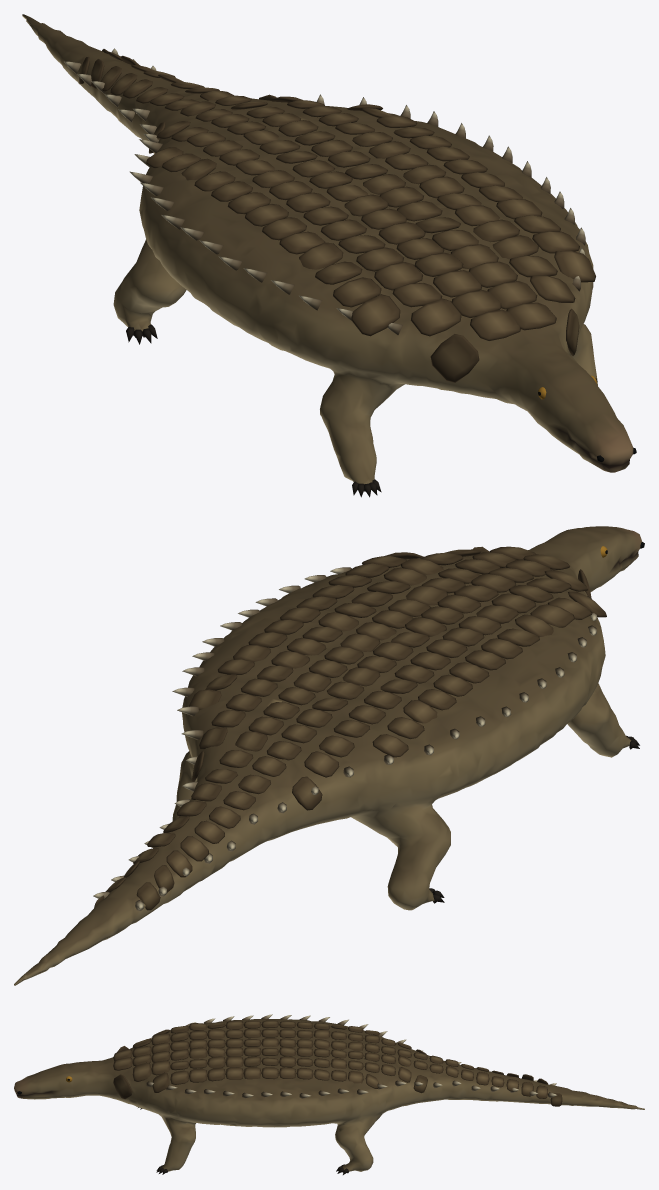
Rendered from Typothorax.fbx.
3 views of the same model, one above another, from view 1: azimuth 30°, elevation 25°; view 2: azimuth 150°, elevation 25°; view 3: azimuth 270°, elevation 25° (orthographic). The views are drawn at different scales.
Visible parts, largest first — view 1: Typothorax; view 2: Typothorax; view 3: Typothorax.
Part boxes in pixels (x1,y1,x2,y2): Typothorax: [22, 14, 636, 497]; Typothorax: [14, 526, 644, 985]; Typothorax: [14, 1014, 644, 1174].
Bounding box in the file's own units: 0.6121 × 0.3334 × 1.98.
